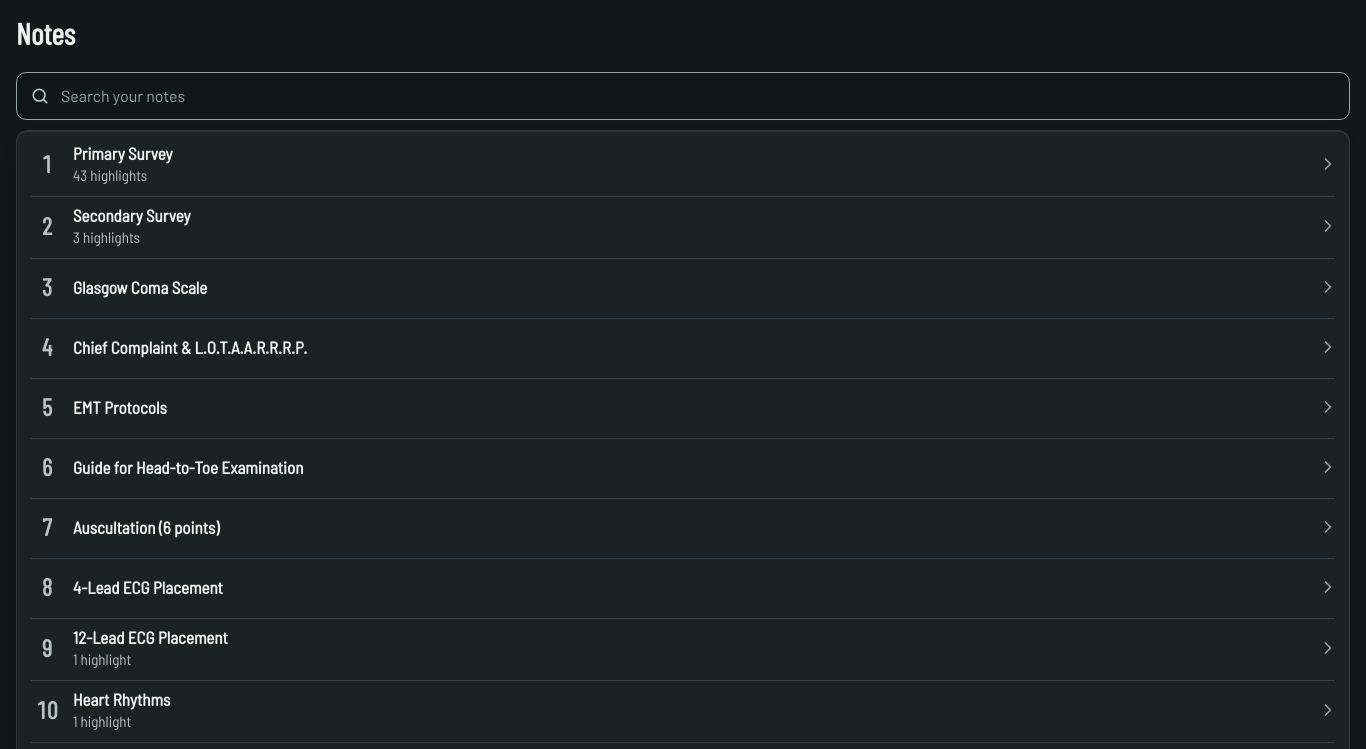
Test: Notes tab: search › says when there are more than 50 matches and shows the first 50
The image size is (1366, 749).
Type "the" into the search field labelled "Search your notes" at (683, 96), box [16,72,1350,120]
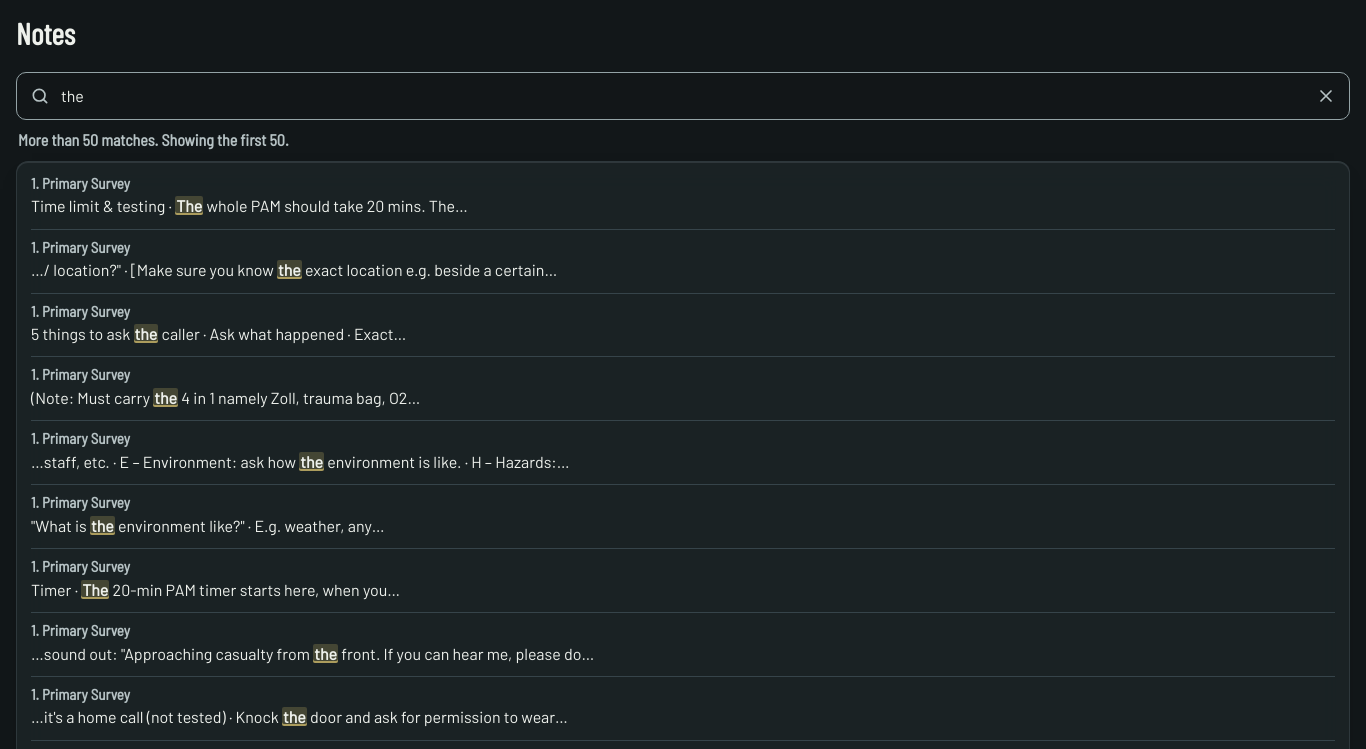
Expected: the text "More than 50 matches. Showing the first 50." is shown, [18,130,289,149]
Expected: the number of links is 50
